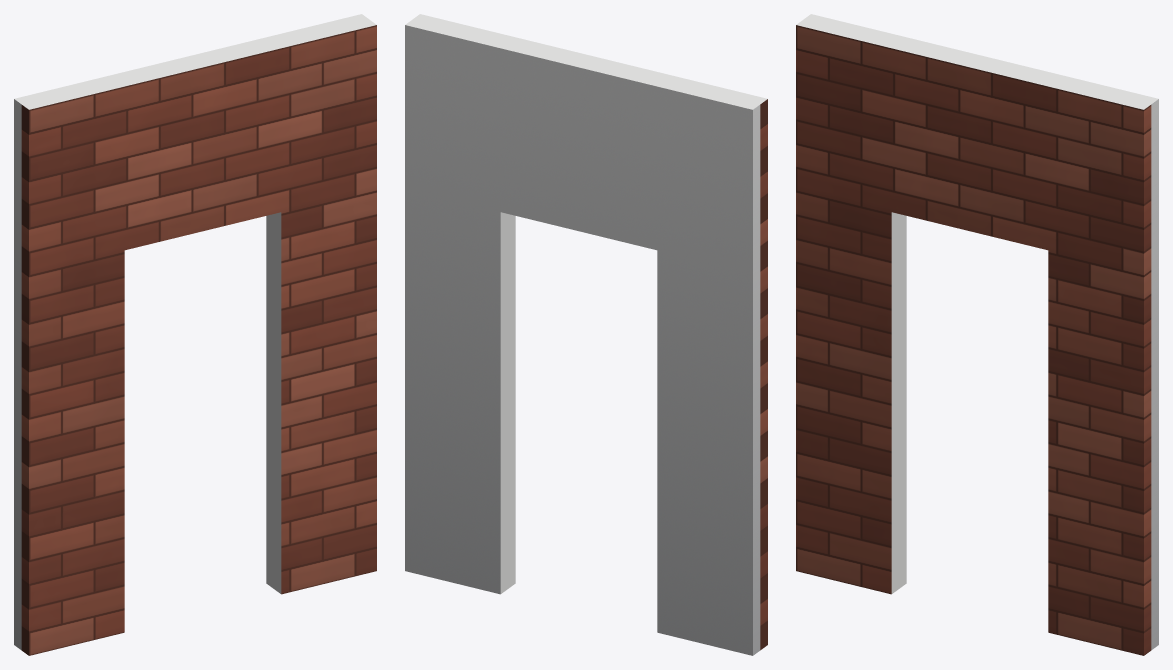
Rendered from porta_2m.glb.
The picture shows the model from 3 angles, left to right: view 1: azimuth 30°, elevation 25°; view 2: azimuth 150°, elevation 25°; view 3: azimuth 330°, elevation 25°; orthographic projection.
Parts seen in each view (by area): view 1: porta_2m; view 2: porta_2m; view 3: porta_2m.
Part boxes in pixels (x1,y1,x2,y2): porta_2m: (14,14,376,655); porta_2m: (405,14,767,655); porta_2m: (796,14,1158,655).
Bounding box in the file's own units: 2 × 3 × 0.15.
3 materials, 2 textured.
